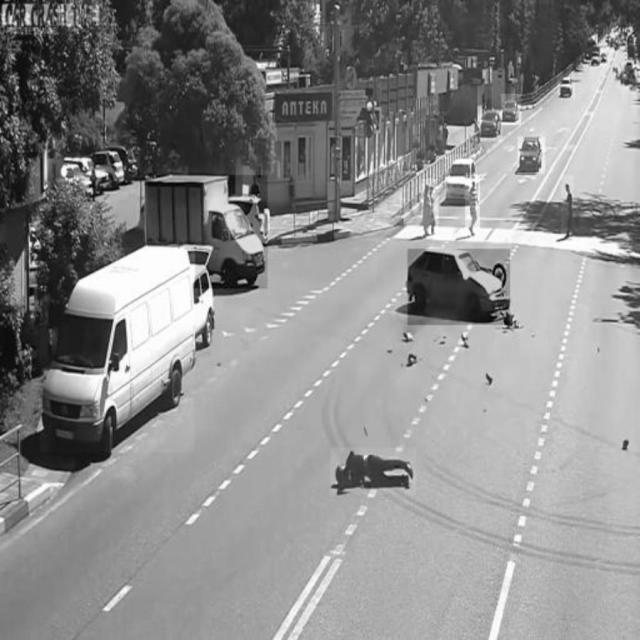person: (331, 448, 417, 495), (422, 179, 439, 237), (465, 175, 480, 236), (562, 175, 574, 243)
vehicle: (40, 248, 194, 453), (149, 176, 269, 289), (407, 249, 510, 325), (445, 154, 475, 204), (94, 150, 126, 190), (518, 137, 545, 174), (481, 109, 503, 141), (502, 94, 522, 124), (558, 74, 575, 98)
